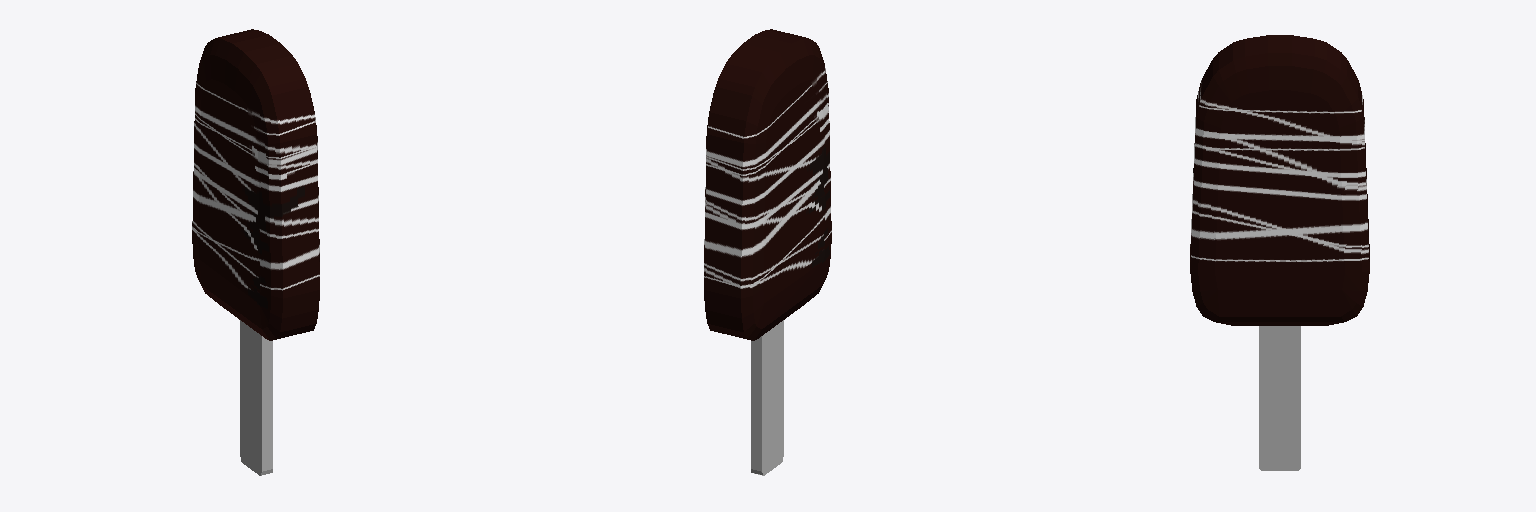
The picture shows the model from 3 angles: view 1: azimuth 30°, elevation 25°; view 2: azimuth 150°, elevation 25°; view 3: azimuth 270°, elevation 25°; orthographic projection.
Visible parts, largest first — view 1: Cube.001, Cube; view 2: Cube.001, Cube; view 3: Cube.001, Cube.
Boxes of the visible parts, x1=… form: Cube.001: x1=192, y1=29, x2=319, y2=340; Cube: x1=240, y1=320, x2=272, y2=475; Cube.001: x1=704, y1=29, x2=831, y2=340; Cube: x1=751, y1=320, x2=783, y2=475; Cube.001: x1=1190, y1=35, x2=1369, y2=325; Cube: x1=1259, y1=326, x2=1300, y2=470.
Bounding box in the file's own units: 2.88 × 22.1 × 8.48.
Materials: 2 (1 with a texture image).